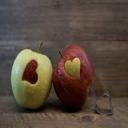apple: (10, 44, 52, 111)
